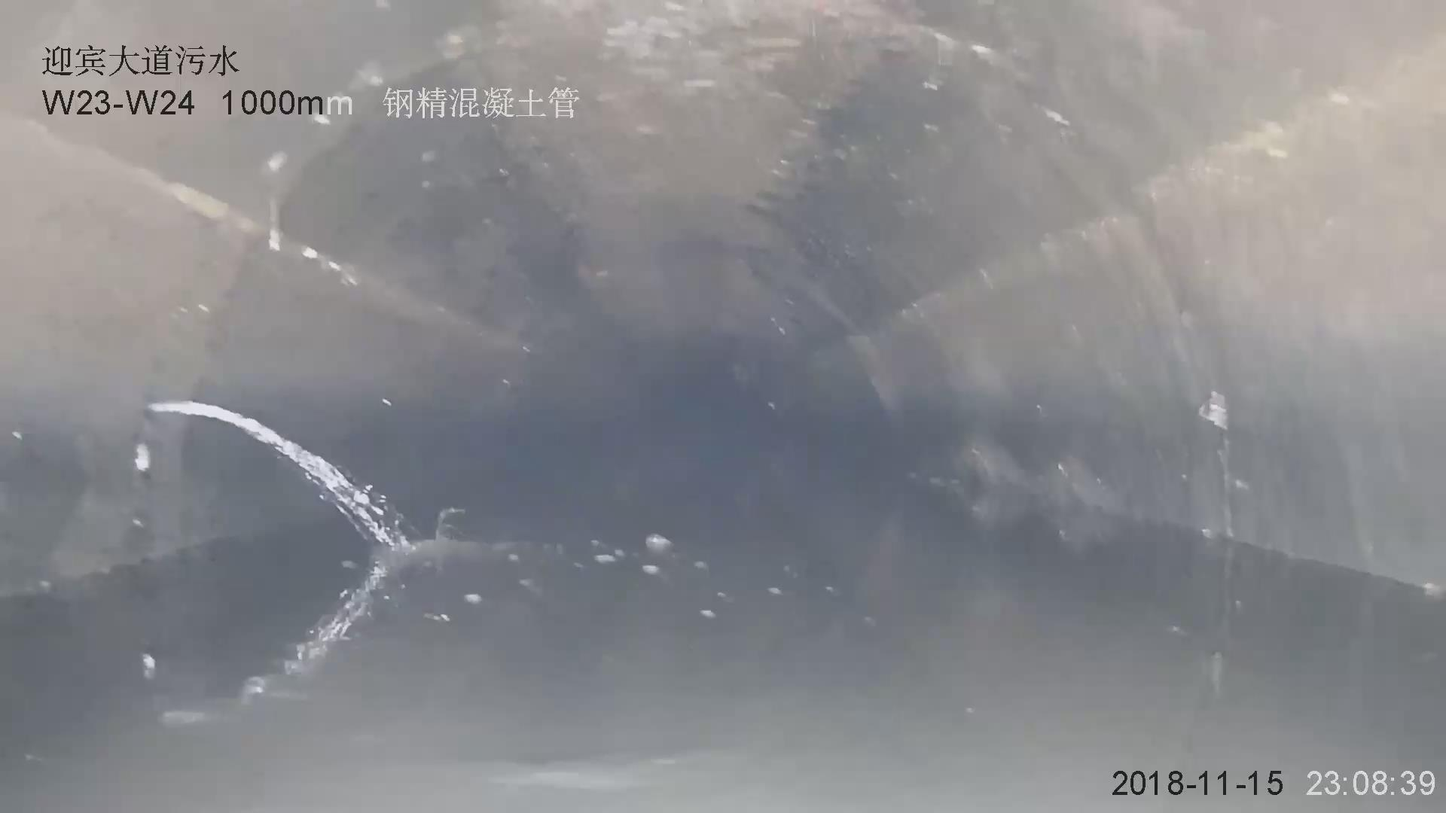SL: (141, 377, 430, 570)
